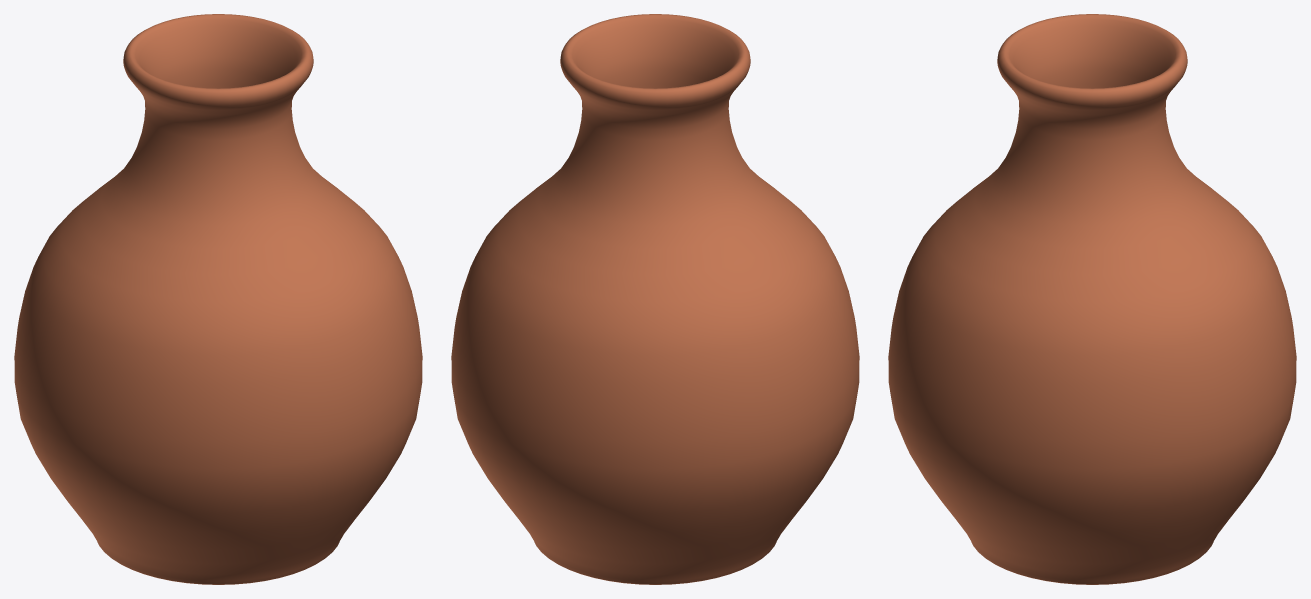
The model's file is vase.glb.
3 renders of one model, left to right at view 1: azimuth 30°, elevation 25°; view 2: azimuth 150°, elevation 25°; view 3: azimuth 270°, elevation 25°, orthographic.
Parts seen in each view (by area): view 1: Ceramic vase; view 2: Ceramic vase; view 3: Ceramic vase.
Boxes of the visible parts, x1,y1,x2,y2 form: Ceramic vase: (14,14,422,584); Ceramic vase: (451,14,859,584); Ceramic vase: (888,14,1296,584).
Size of the model in its own units: 1.12 by 1.46 by 1.12.
